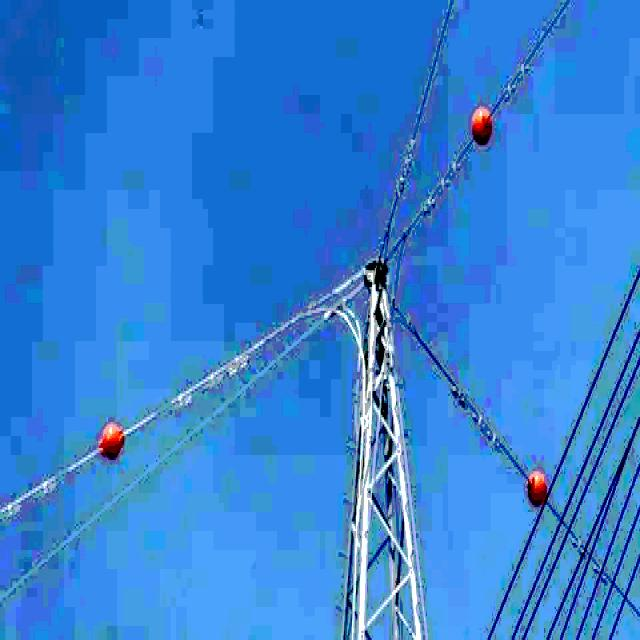poles: (345, 256, 431, 638)
wires: (0, 318, 323, 581), (491, 412, 609, 638), (403, 315, 535, 486), (380, 0, 456, 258), (468, 38, 545, 149), (92, 417, 132, 465)
